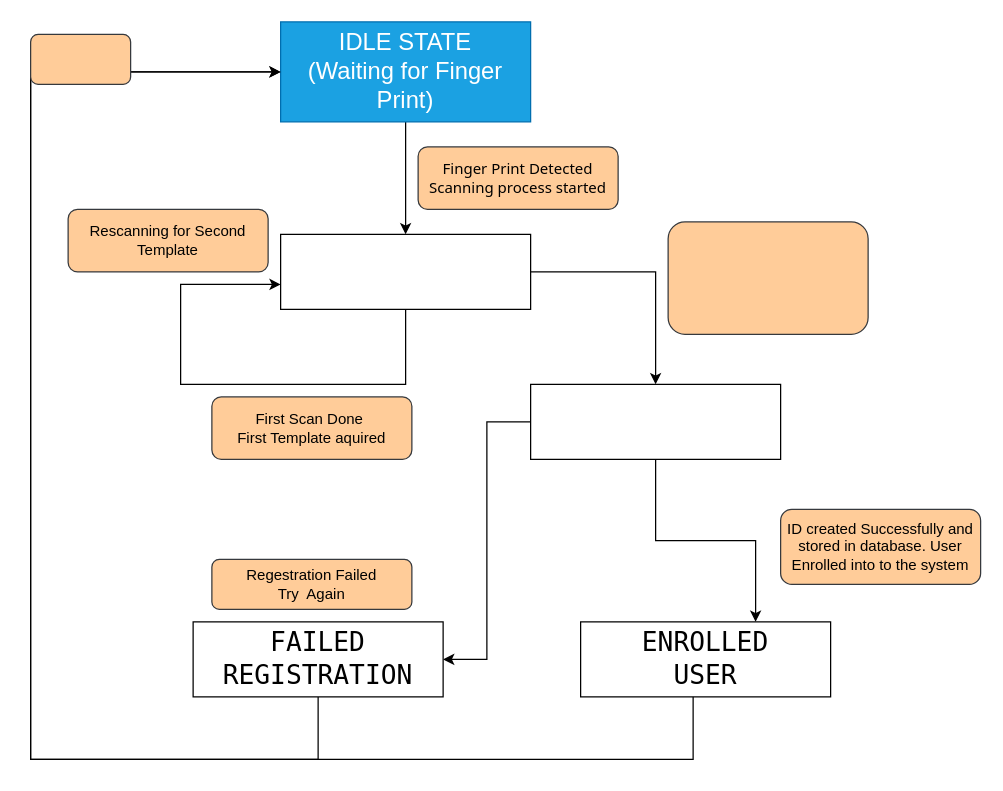
Some shapes in this 1003 by 791 pixel diagram are drawn without their labels. Here are the shapes that lost their labels. From the top down, the box of each, then its label:
(29, 33, 131, 84): 5 Sec Delay
(279, 233, 531, 309): SCANNING PRINT
(667, 221, 868, 334): Compling and Combining both template into a singe unique ID for the user
(529, 383, 781, 459): PROCESSING ID
